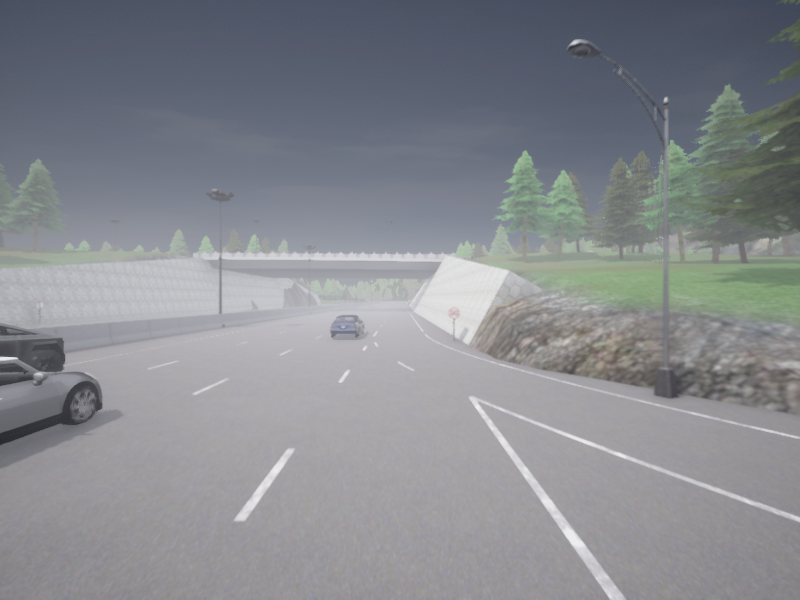vehicle: (0, 357, 101, 444), (0, 323, 64, 371), (330, 315, 364, 336)
